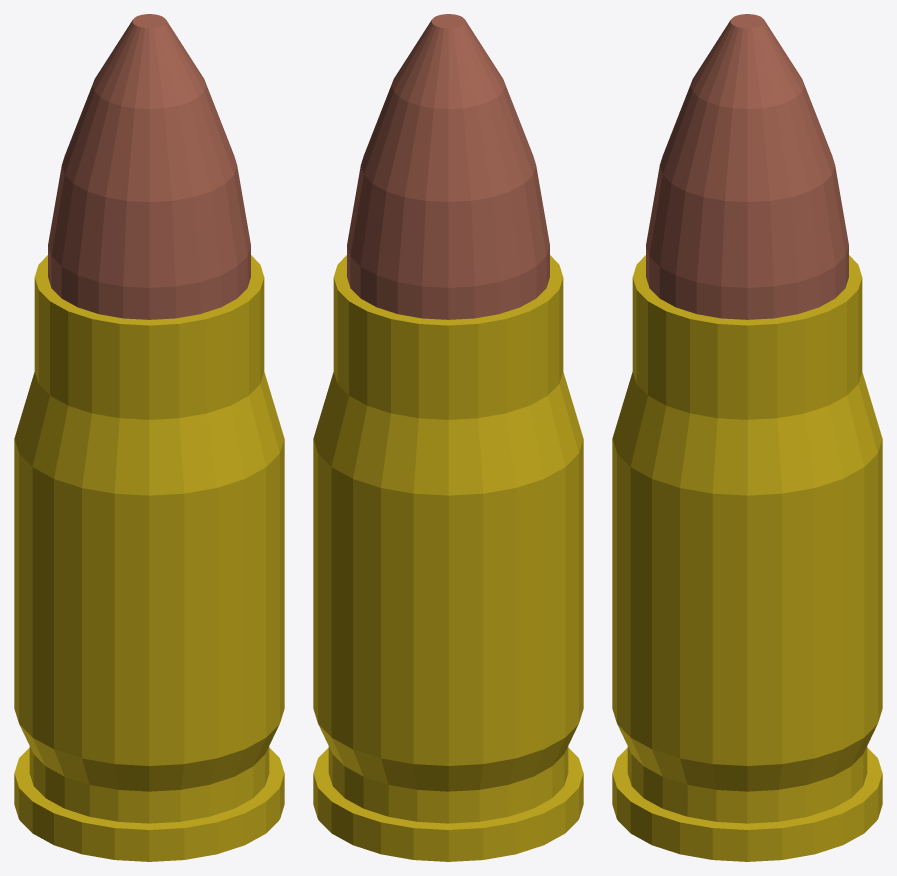
Rendered from ammo_machinegun.glb.
3 views of the same model, side by side, from view 1: azimuth 30°, elevation 25°; view 2: azimuth 150°, elevation 25°; view 3: azimuth 270°, elevation 25° (orthographic).
Parts seen in each view (by area): view 1: Mesh1 Group2 Group1 Model, Mesh2 Group3 Group1 Model; view 2: Mesh1 Group2 Group1 Model, Mesh2 Group3 Group1 Model; view 3: Mesh1 Group2 Group1 Model, Mesh2 Group3 Group1 Model.
Part boxes in pixels (bbox=[...]): Mesh1 Group2 Group1 Model: bbox=[14, 255, 284, 861]; Mesh2 Group3 Group1 Model: bbox=[48, 14, 250, 319]; Mesh1 Group2 Group1 Model: bbox=[313, 255, 583, 861]; Mesh2 Group3 Group1 Model: bbox=[347, 14, 549, 319]; Mesh1 Group2 Group1 Model: bbox=[612, 255, 882, 861]; Mesh2 Group3 Group1 Model: bbox=[646, 14, 848, 319].
Bounding box in the file's own units: 0.00459 × 0.0147 × 0.00459.
